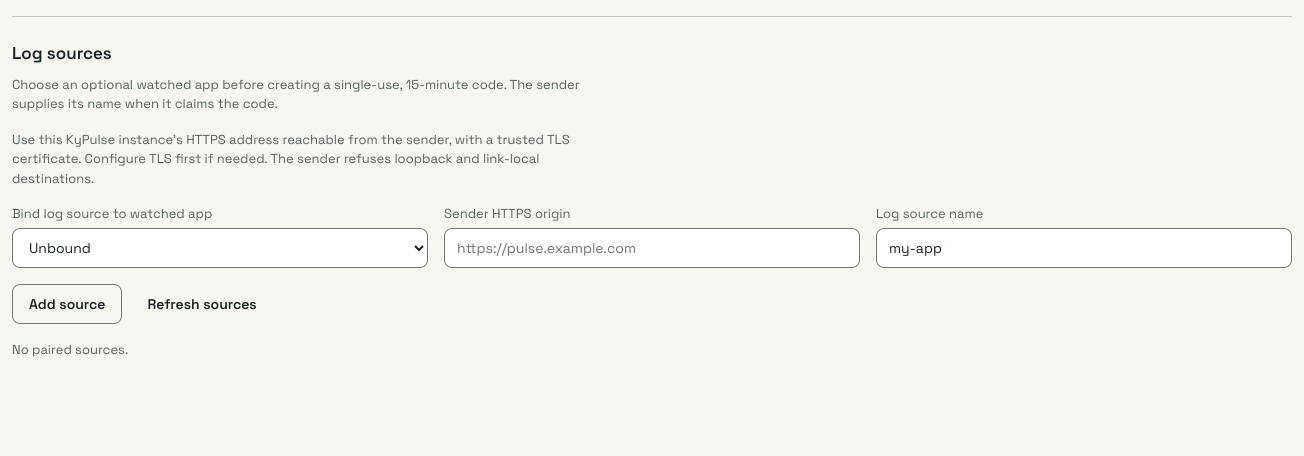
requires an explicit sender HTTPS origin on an HTTP page
Check: the text "No paired sources." is shown, box [12,340,128,358]
Check: the field labelled "Sender HTTPS origin" is empty, box [444,228,860,268]
Submit the form labelled "Sender HTTPS origin", box [12,204,1292,324]
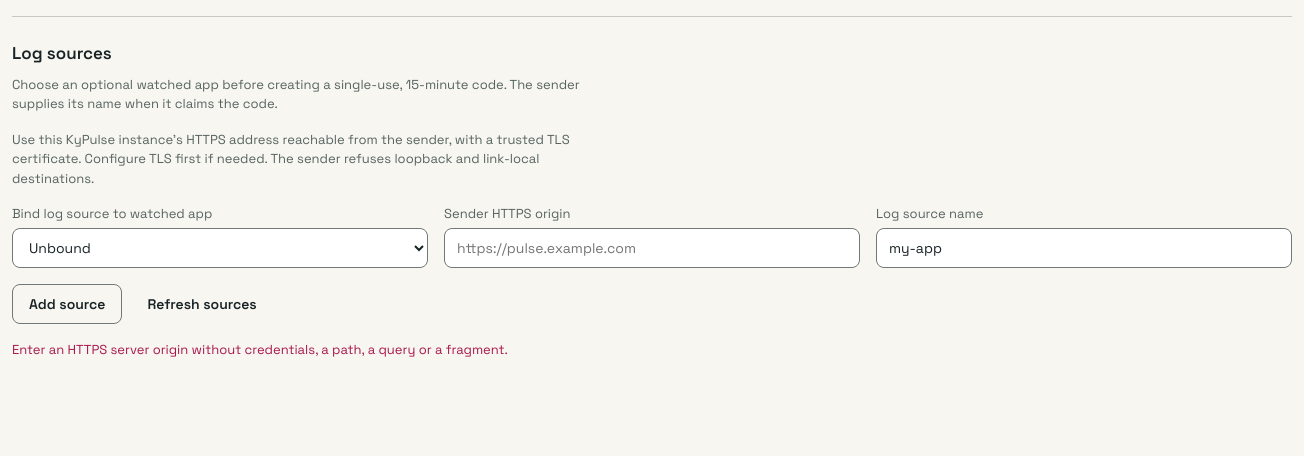
Check: the text "Enter an HTTPS server origin" is shown, box [12,340,508,358]
Type "https://pulse.example.com:8443/" into the field labelled "Sender HTTPS origin" at (652, 248), box [444,228,860,268]
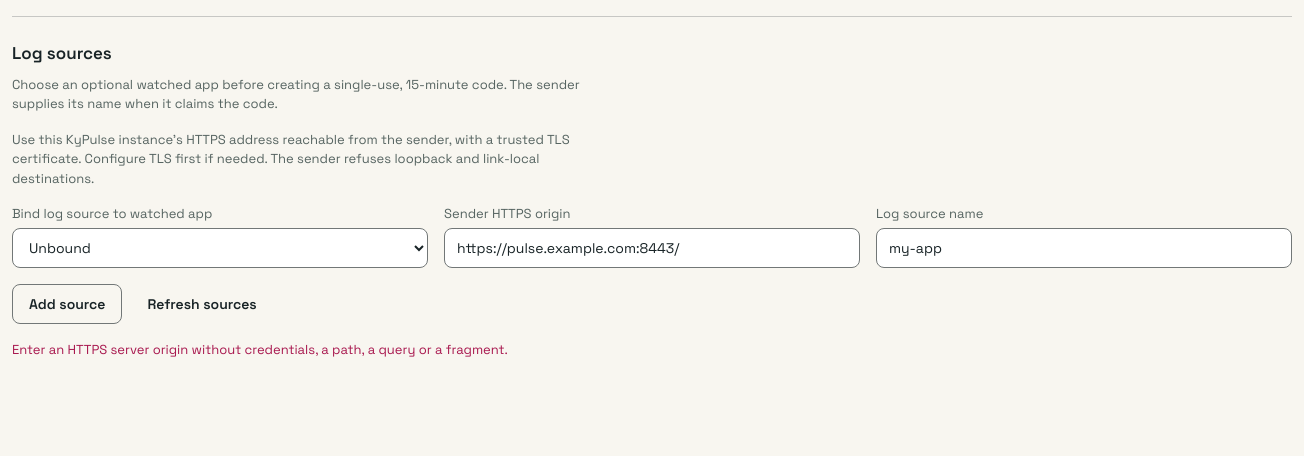
Click the button "Add source" at (67, 304), box [12,284,122,324]
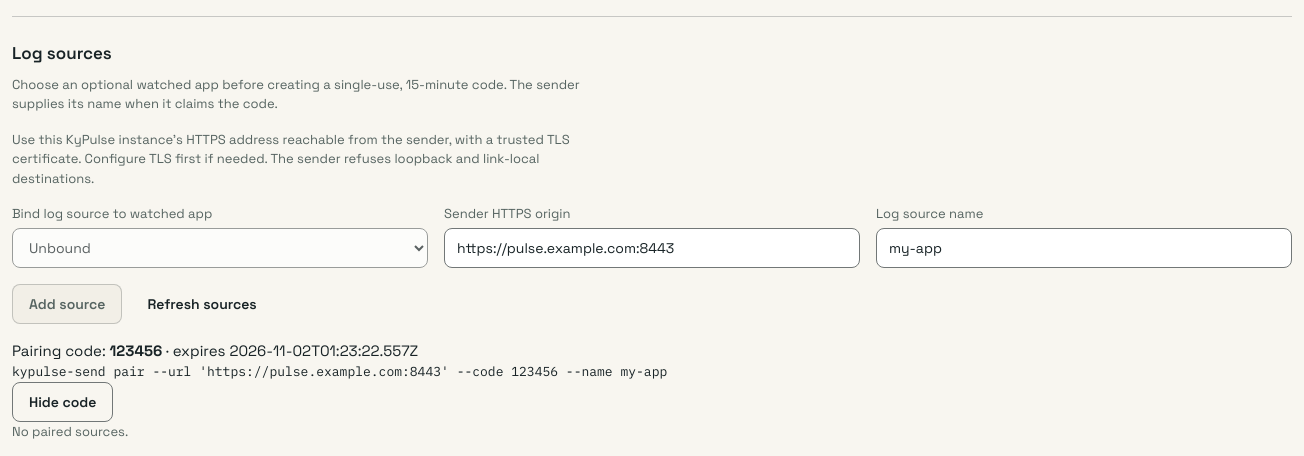
Check: the text "kypulse-send pair" shows "kypulse-send pair --url 'https://pulse.example.com:8443' --code 123456 --name my-app", box [12,363,667,380]
